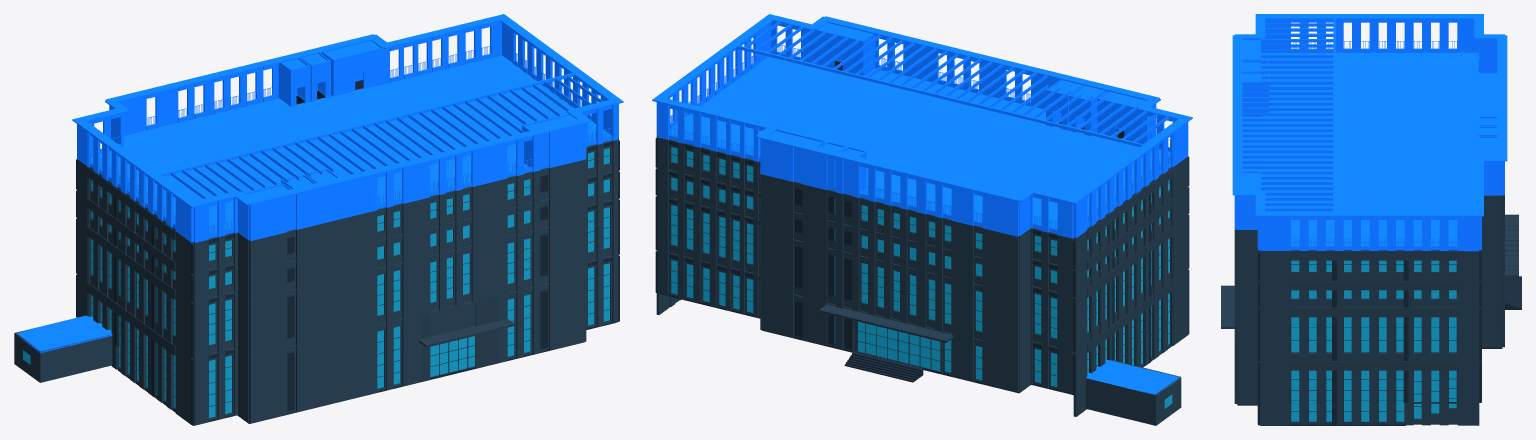
The picture shows the model from 3 angles, left to right: view 1: azimuth 30°, elevation 25°; view 2: azimuth 150°, elevation 25°; view 3: azimuth 270°, elevation 25°; orthographic projection. The views are drawn at different scales.
Parts seen in each view (by area): view 1: Campus_C3_RF_Envelope_Ivory, Campus_C3_RoofGarden_Garden, Campus_C3_F01_Envelope_Ivory, Campus_C3_F02_Envelope_Ivory, Campus_C3_F04_Envelope_Ivory, Campus_C3_F03_Envelope_Ivory, Campus_C3_RF_Structure_Ivory, Campus_C3_F01_Envelope_Silver, Campus_C3_F01_Glazing_Glass, Campus_C3_RF_Cores_Concrete, Campus_C3_F02_Envelope_Silver, Campus_C3_F02_Glazing_Glass (+23 smaller); view 2: Campus_C3_RoofGarden_Garden, Campus_C3_RF_Envelope_Ivory, Campus_C3_F02_Envelope_Ivory, Campus_C3_F01_Envelope_Ivory, Campus_C3_F04_Envelope_Ivory, Campus_C3_F03_Envelope_Ivory, Campus_C3_RF_Structure_Ivory, Campus_C3_F02_Envelope_Silver, Campus_C3_F01_Glazing_Glass, Campus_C3_RF_Cores_Concrete, Campus_C3_F02_Glazing_Glass, Campus_C3_F04_Envelope_Silver (+26 smaller); view 3: Campus_C3_RoofGarden_Garden, Campus_C3_RF_Envelope_Ivory, Campus_C3_RF_Structure_Ivory, Campus_C3_F01_Envelope_Ivory, Campus_C3_F02_Envelope_Ivory, Campus_C3_F04_Envelope_Ivory, Campus_C3_F03_Envelope_Ivory, Campus_C3_F01_Glazing_Glass, Campus_C3_RF_Structure_Roof, Campus_C3_F02_Envelope_Silver, Campus_C3_F02_Glazing_Glass, Campus_C3_F01_Envelope_Silver (+21 smaller).
Part boxes in pixels (<box>): Campus_C3_RF_Envelope_Ivory: <box>72,14,623,242</box>; Campus_C3_RoofGarden_Garden: <box>100,59,595,233</box>; Campus_C3_F01_Envelope_Ivory: <box>77,255,618,425</box>; Campus_C3_F02_Envelope_Ivory: <box>77,198,618,358</box>; Campus_C3_F04_Envelope_Ivory: <box>77,138,618,273</box>; Campus_C3_F03_Envelope_Ivory: <box>77,170,618,301</box>; Campus_C3_RF_Structure_Ivory: <box>154,71,605,202</box>; Campus_C3_F01_Envelope_Silver: <box>77,255,612,420</box>; Campus_C3_F01_Glazing_Glass: <box>23,263,609,417</box>; Campus_C3_RF_Cores_Concrete: <box>243,48,570,239</box>; Campus_C3_F02_Envelope_Silver: <box>77,199,612,353</box>; Campus_C3_F02_Glazing_Glass: <box>91,207,609,344</box>; Campus_C3_RoofGarden_Garden: <box>685,60,1170,228</box>; Campus_C3_RF_Envelope_Ivory: <box>652,14,1192,238</box>; Campus_C3_F02_Envelope_Ivory: <box>657,195,1188,351</box>; Campus_C3_F01_Envelope_Ivory: <box>656,250,1188,416</box>; Campus_C3_F04_Envelope_Ivory: <box>656,136,1188,269</box>; Campus_C3_F03_Envelope_Ivory: <box>657,168,1188,296</box>; Campus_C3_RF_Structure_Ivory: <box>733,21,1178,146</box>; Campus_C3_F02_Envelope_Silver: <box>668,197,1174,350</box>; Campus_C3_F01_Glazing_Glass: <box>671,260,1172,408</box>; Campus_C3_RF_Cores_Concrete: <box>776,29,1143,191</box>; Campus_C3_F02_Glazing_Glass: <box>671,205,1169,338</box>; Campus_C3_F04_Envelope_Silver: <box>668,75,1174,268</box>; Campus_C3_RoofGarden_Garden: <box>1262,59,1477,242</box>; Campus_C3_RF_Envelope_Ivory: <box>1232,14,1507,250</box>; Campus_C3_RF_Structure_Ivory: <box>1237,16,1335,213</box>; Campus_C3_F01_Envelope_Ivory: <box>1234,305,1504,425</box>; Campus_C3_F02_Envelope_Ivory: <box>1234,252,1504,361</box>; Campus_C3_F04_Envelope_Ivory: <box>1234,195,1504,280</box>; Campus_C3_F03_Envelope_Ivory: <box>1234,225,1504,307</box>; Campus_C3_F01_Glazing_Glass: <box>1291,370,1456,421</box>; Campus_C3_RF_Structure_Roof: <box>1242,52,1497,245</box>; Campus_C3_F02_Envelope_Silver: <box>1290,307,1478,361</box>; Campus_C3_F02_Glazing_Glass: <box>1291,317,1456,352</box>; Campus_C3_F01_Envelope_Silver: <box>1236,214,1518,425</box>.
Bounding box in the file's own units: 67.42 × 28.52 × 36.6.
